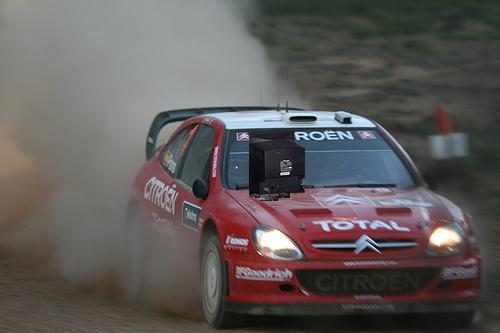tampered: (248, 131, 305, 201)
